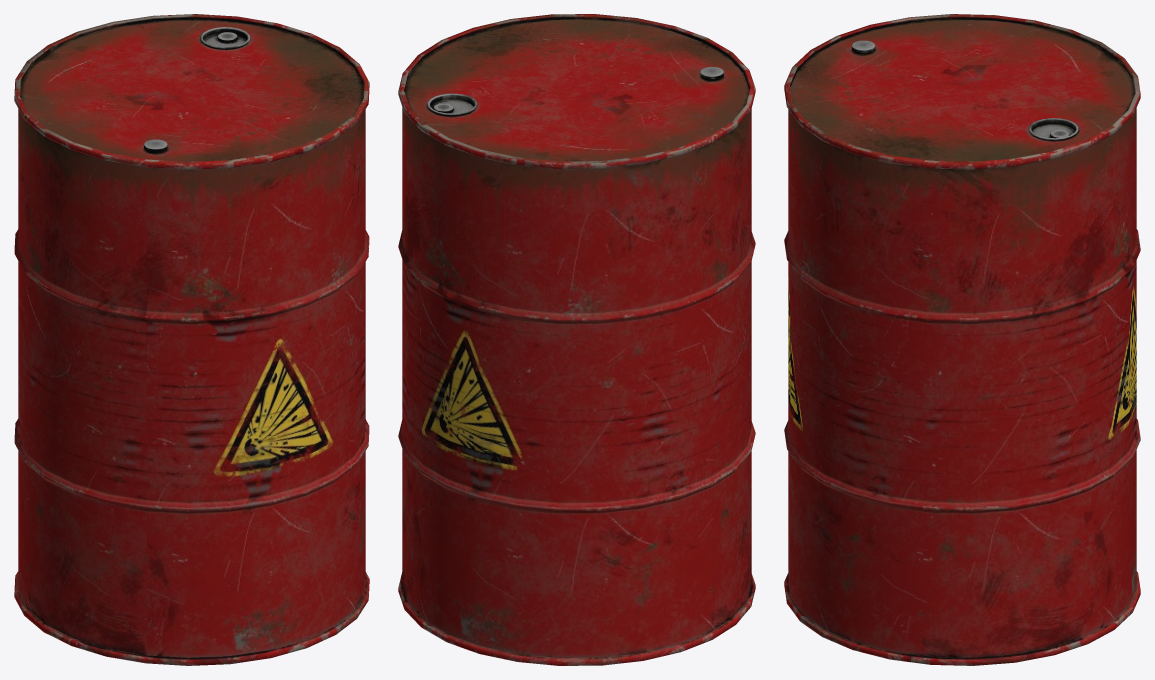
Rendered from Barrel_01.glb.
The picture shows the model from 3 angles, left to right: view 1: azimuth 30°, elevation 25°; view 2: azimuth 150°, elevation 25°; view 3: azimuth 270°, elevation 25°; orthographic projection.
Visible parts, largest first — view 1: Barrel_01; view 2: Barrel_01; view 3: Barrel_01.
Part boxes in pixels (x1,y1,x2,y2): Barrel_01: [14, 14, 369, 665]; Barrel_01: [398, 14, 755, 665]; Barrel_01: [784, 14, 1140, 665].
Size of the model in its own units: 0.563 by 0.88 by 0.563.
1 material, 1 textured.
